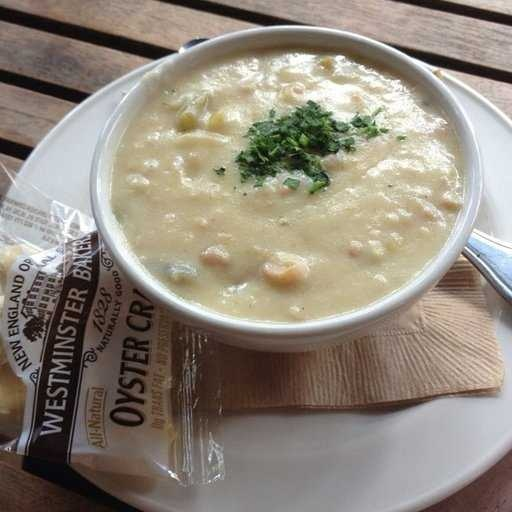soup: (108, 34, 459, 328)
